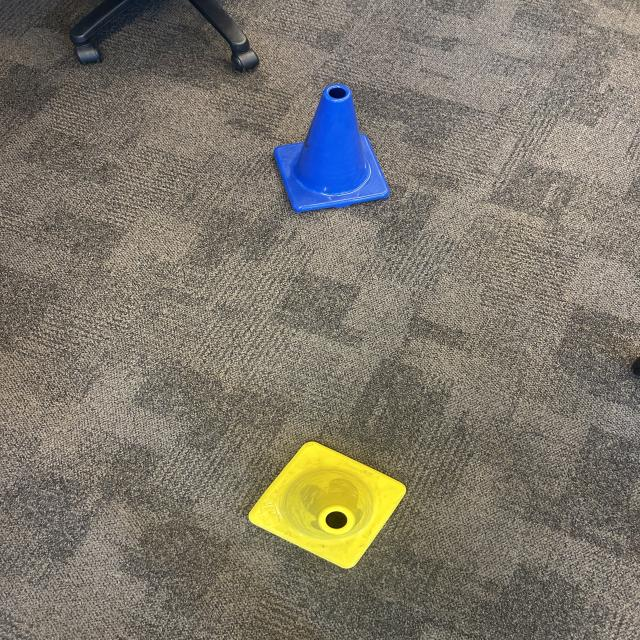blue_cone: (273, 84, 392, 213)
yellow_cone: (248, 441, 407, 570)
